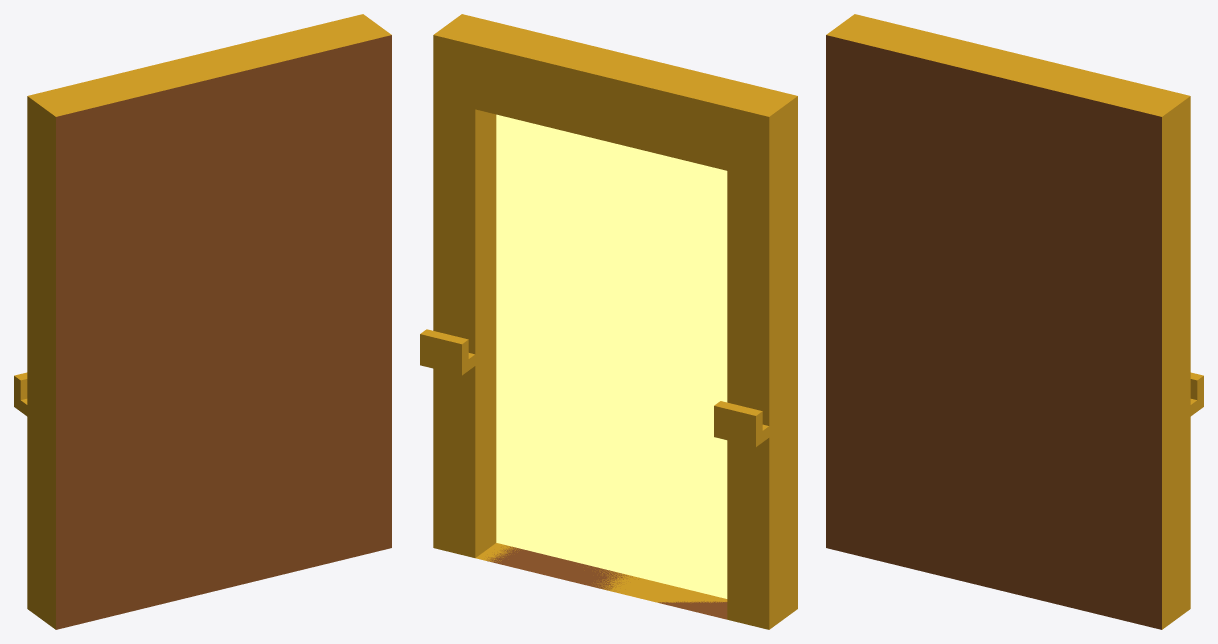
The model's file is Door_Open.fbx.
3 renders of one model, left to right at view 1: azimuth 30°, elevation 25°; view 2: azimuth 150°, elevation 25°; view 3: azimuth 330°, elevation 25°, orthographic.
Visible parts, largest first — view 1: Cube.001; view 2: Cube.001; view 3: Cube.001.
Boxes of the visible parts, x1=… form: Cube.001: x1=14, y1=14, x2=391, y2=629; Cube.001: x1=420, y1=14, x2=797, y2=629; Cube.001: x1=826, y1=14, x2=1203, y2=629.
Bounding box in the file's own units: 270 × 394 × 58.32.
